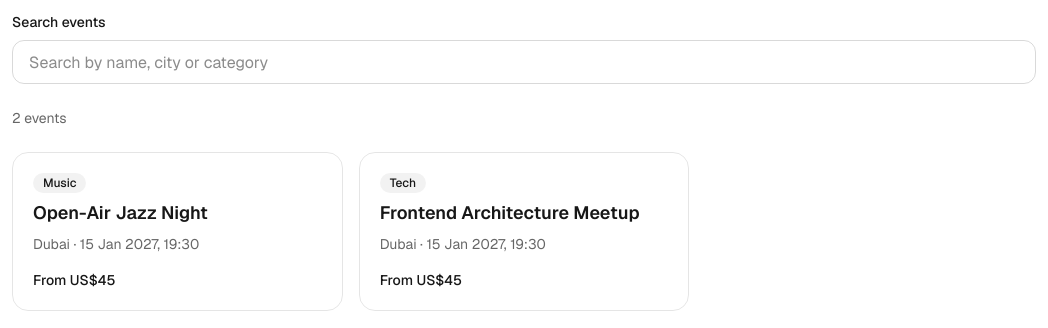
Test case: EventSearch › searches through the BFF, not the upstream
The width and height of the screenshot is (1048, 328).
Type "tech" into the search field labelled "Search events" at (524, 62), box [12,40,1036,84]
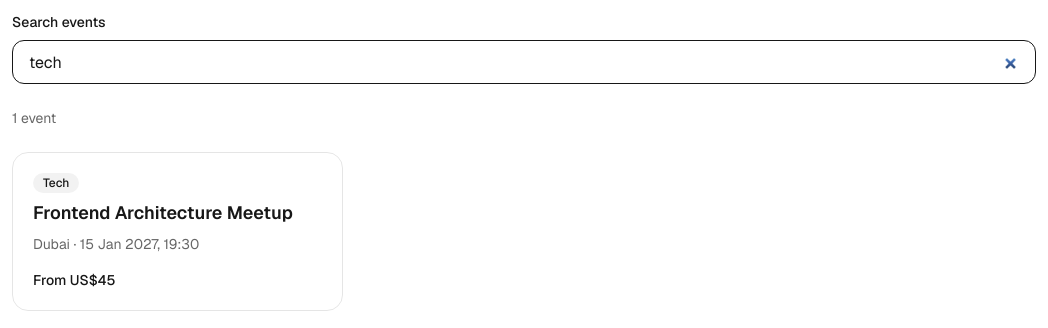
Result: the text "1 event" is shown at [12,109,56,127]
Result: the link "Open-Air Jazz Night" is gone
